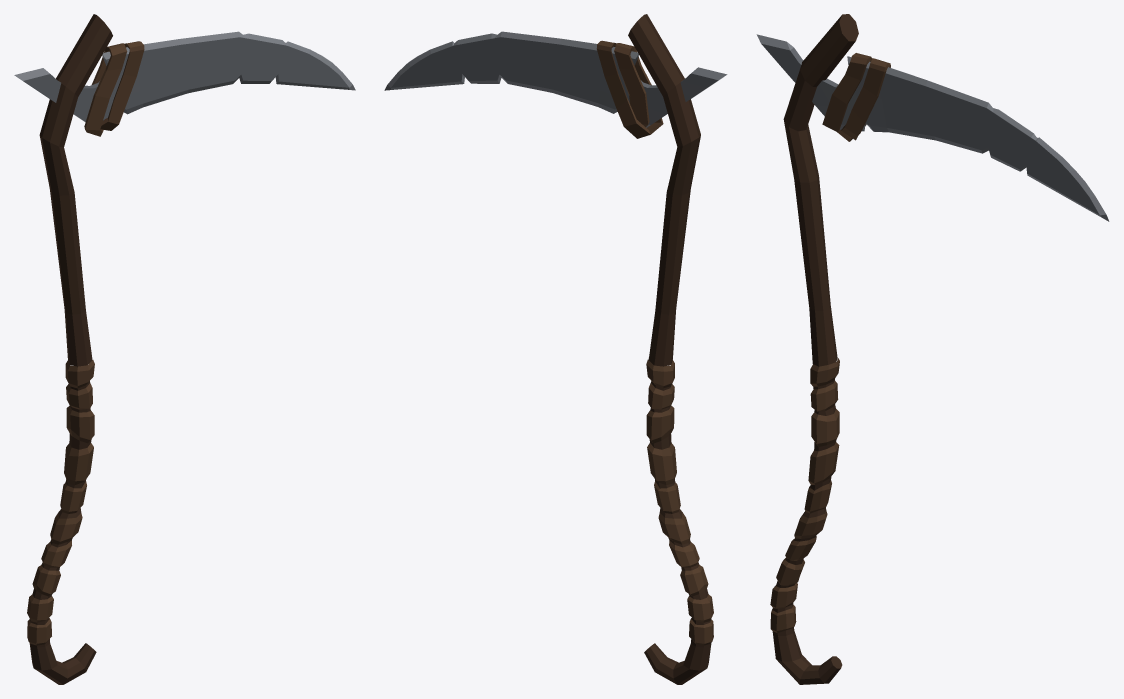
File: scythe.glb
The picture shows the model from 3 angles, left to right: view 1: azimuth 30°, elevation 25°; view 2: azimuth 150°, elevation 25°; view 3: azimuth 330°, elevation 25°; orthographic projection. The views are drawn at different scales.
Visible parts, largest first — view 1: Scythe; view 2: Scythe; view 3: Scythe.
Part boxes in pixels (left/top/right/bottom): Scythe: left=14, top=14, right=355, bottom=684; Scythe: left=384, top=14, right=727, bottom=684; Scythe: left=756, top=14, right=1109, bottom=684.
Bounding box in the file's own units: 1.03 × 1.9 × 0.0943.
